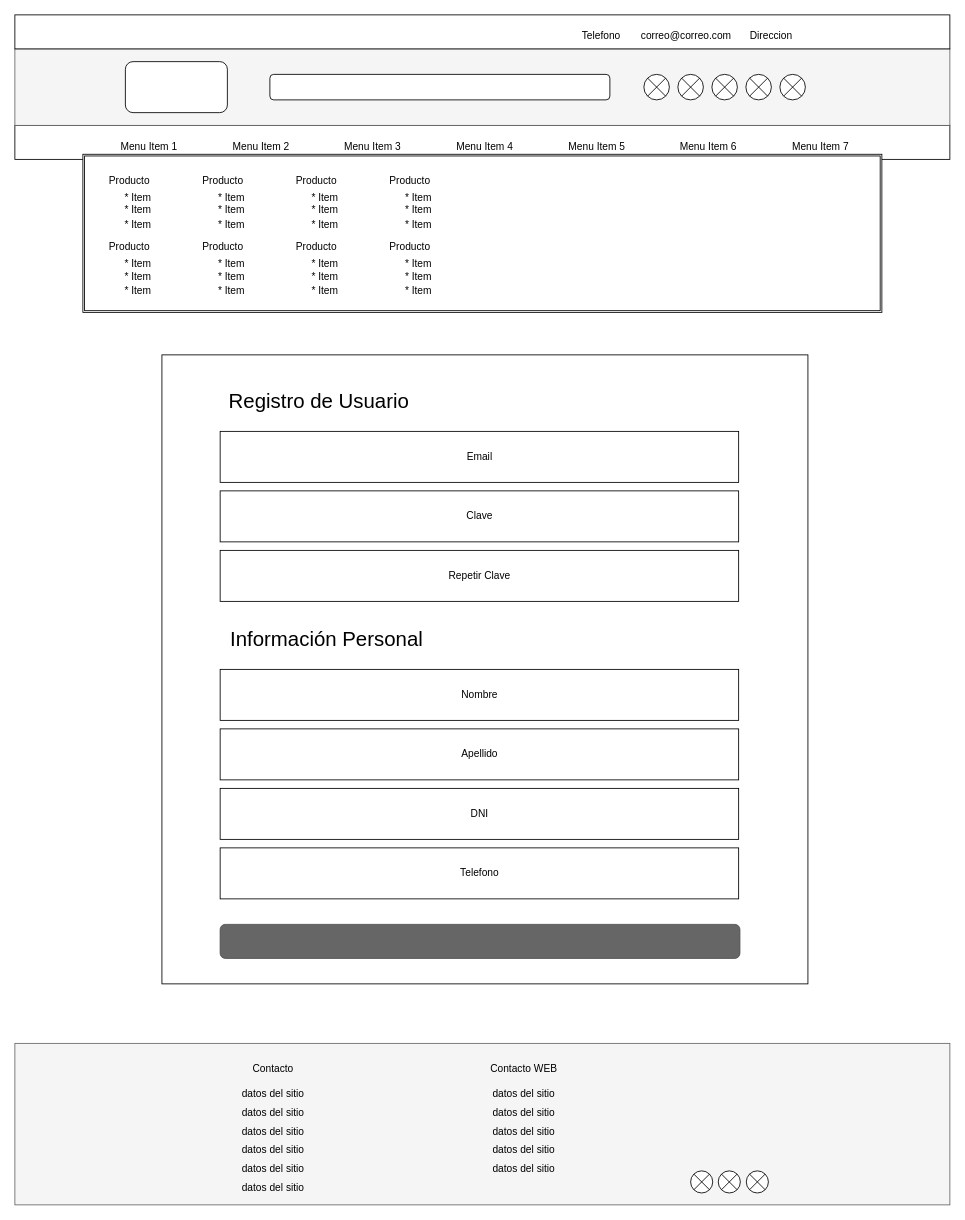
Image size: 965x1220. Some labels were removed from this diagram. Here are the shapes that lost their labels. From the top down, the centre of each, then its label:
the point at 176,87: LOGO
the point at 439,87: Buscador
the point at 479,941: Enviar
